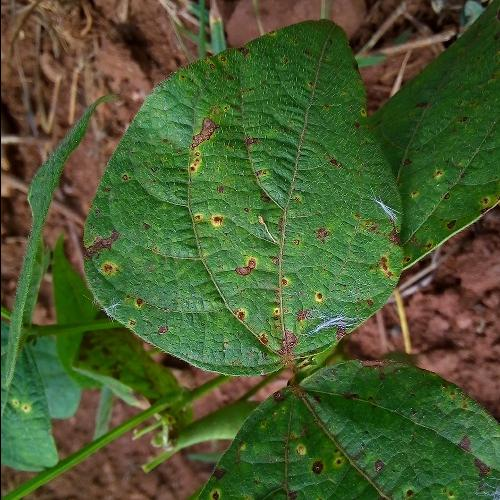hawar: (165, 66, 382, 376)
